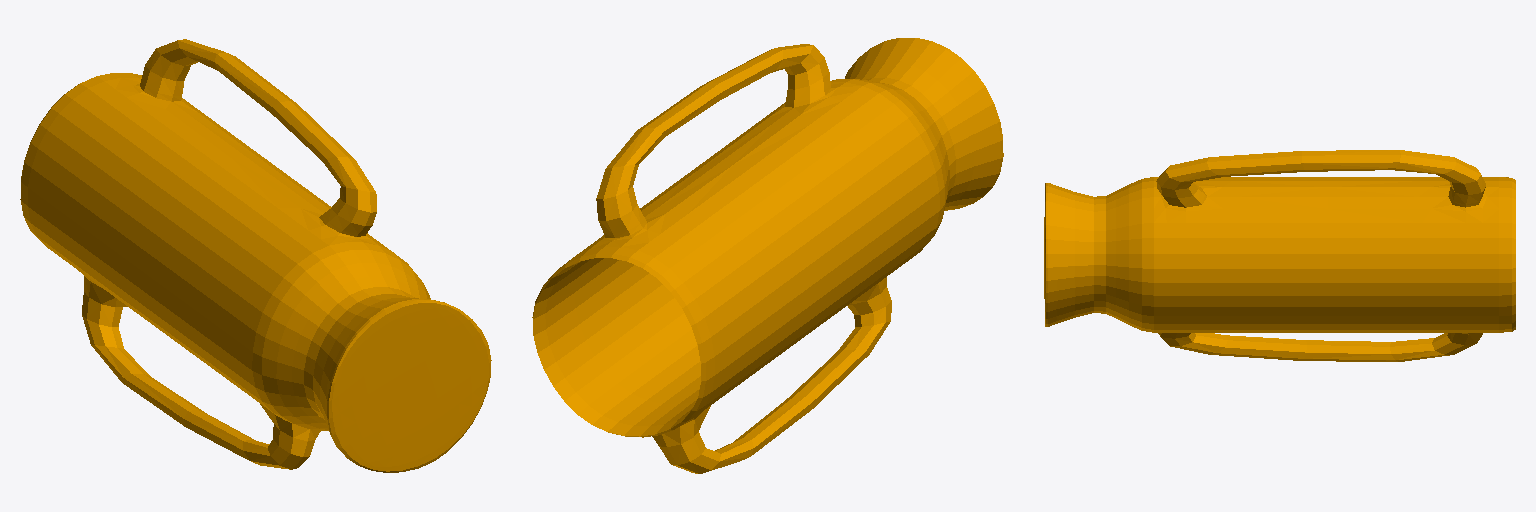
The robot description file, URDF, robot "281":
<?xml version="1.0" ?>
<robot name="281">
  <link name="body">
    <visual>
      <geometry>
        <mesh filename="../shapes/281.obj"/>
      </geometry>
    </visual>
    <collision>
      <geometry>
        <mesh filename="../shapes/281.obj"/>
      </geometry>
    </collision>
  </link>
</robot>

--- Facts derived from the render (not from the file) ---
The picture shows the robot from 3 angles, left to right: view 1: azimuth 30°, elevation 25°; view 2: azimuth 150°, elevation 25°; view 3: azimuth 270°, elevation 25°; orthographic projection.
Model 281 with 1 links and 0 joints (none), rooted at body, posed all joints at 0.
Links seen in each view (by area): view 1: body; view 2: body; view 3: body.
Boxes of the visible links, x1,y1,x2,y2 form: body: [20, 39, 491, 472]; body: [532, 38, 1003, 473]; body: [1044, 150, 1515, 361].
Size in the robot's own frame: 2.46 by 7.44 by 4.2 metres.
1 mesh visuals loaded from 1 distinct referenced files (1 OBJ).